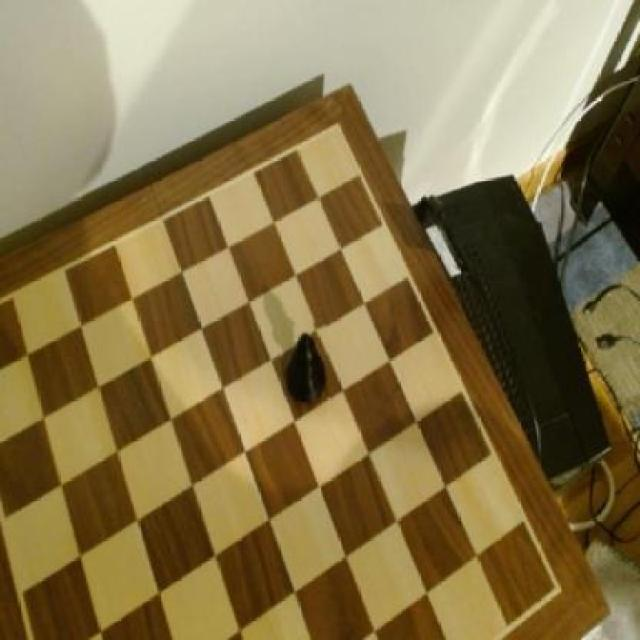bishop: (283, 323, 331, 409)
